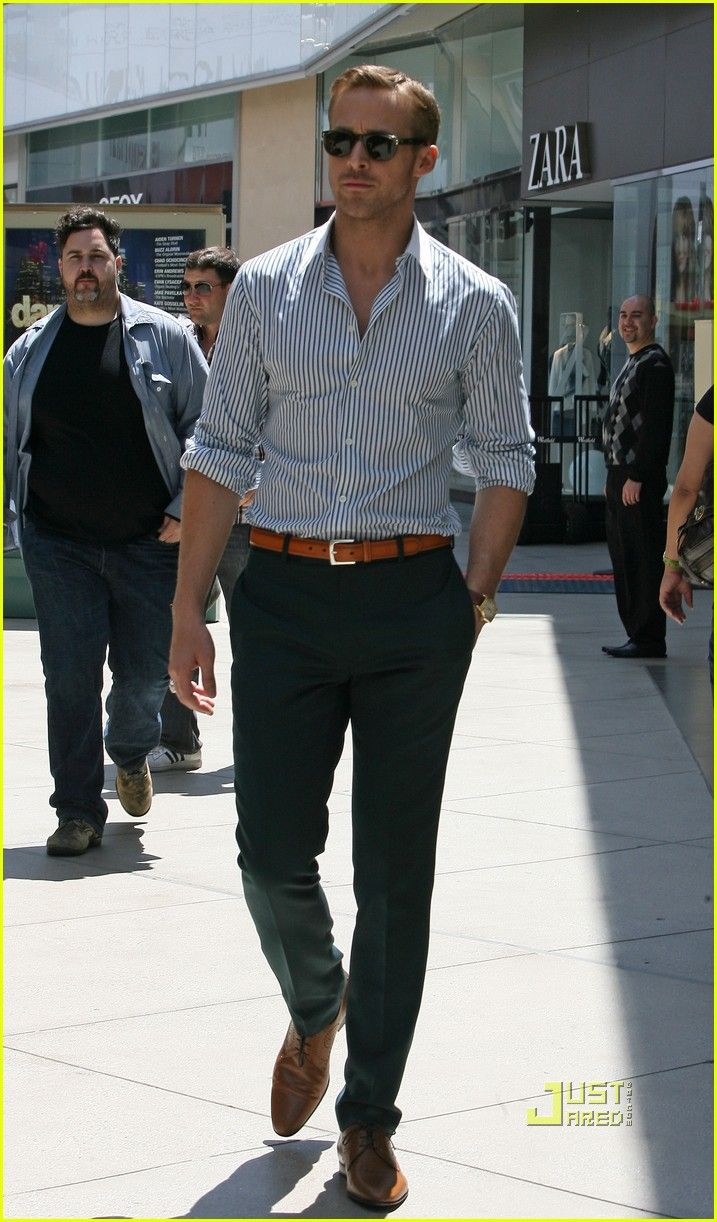F_belt: (233, 525, 452, 574)
F_dress pants: (220, 538, 479, 1112)
F_shirt: (190, 219, 539, 538)
